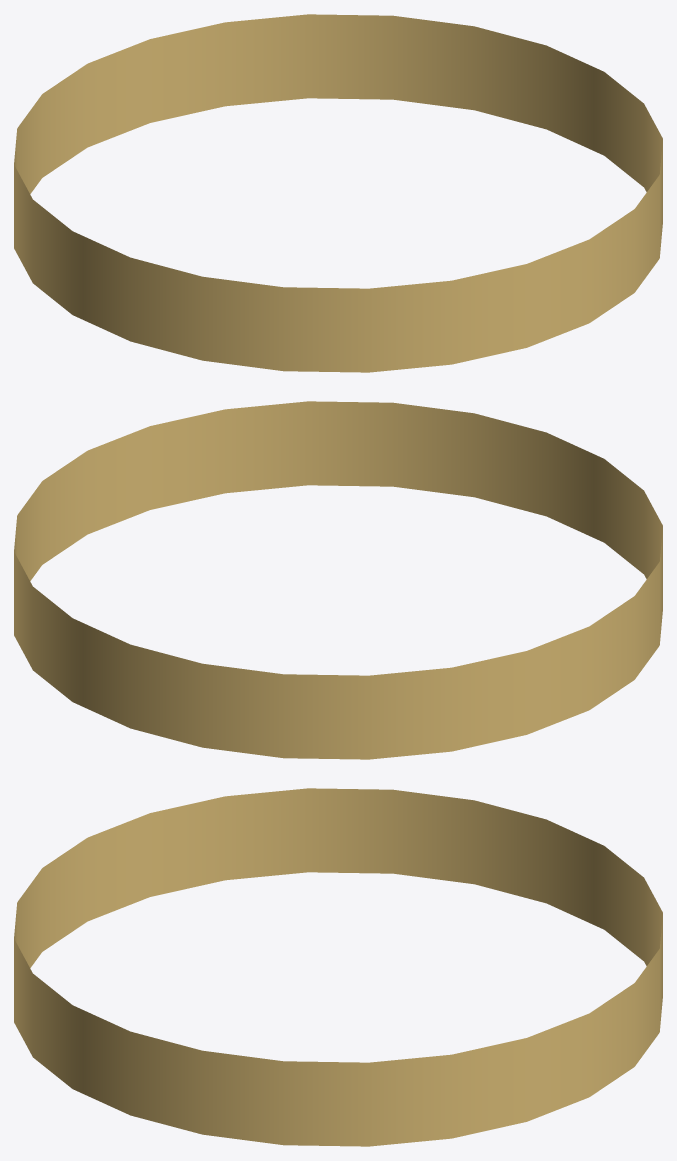
File: original-48.obj
3 renders of one model, top to bottom at view 1: azimuth 30°, elevation 25°; view 2: azimuth 150°, elevation 25°; view 3: azimuth 270°, elevation 25°, orthographic.
Visible parts, largest first — view 1: Knife1/Group_4/ID232#ID232; view 2: Knife1/Group_4/ID232#ID232; view 3: Knife1/Group_4/ID232#ID232.
Part boxes in pixels (x1,y1,x2,y2): Knife1/Group_4/ID232#ID232: (14,14,662,372); Knife1/Group_4/ID232#ID232: (14,401,662,759); Knife1/Group_4/ID232#ID232: (14,788,662,1146).
Size of the model in its own units: 0.0583 by 0.00832 by 0.0583.
